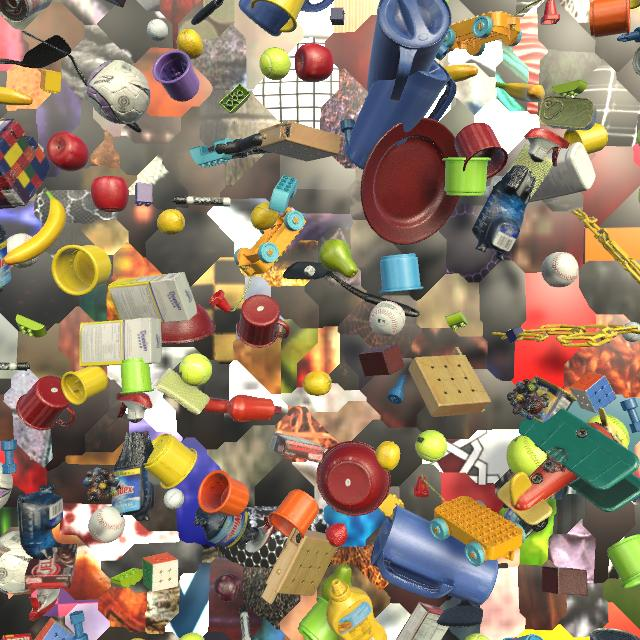ycb_002_master_chef_can: (590, 628, 640, 640)
ycb_003_cracker_box: (1, 633, 32, 640)
ycb_004_sugar_box: (108, 272, 197, 322), (79, 317, 162, 367)
ycb_005_tomato_soup_can: (0, 0, 52, 23), (633, 47, 640, 75)
ycb_006_mustard_bottle: (326, 579, 387, 640)
ycb_007_tuna_fish_can: (503, 507, 533, 539)
ycb_008_pudding_box: (24, 544, 78, 590), (396, 602, 449, 640), (269, 432, 325, 463), (0, 542, 11, 558), (365, 98, 366, 100)
ycb_010_potted_meat_can: (533, 375, 577, 423), (538, 96, 597, 130)
ycb_011_banana: (3, 191, 66, 265), (495, 82, 545, 103), (0, 87, 33, 106), (443, 65, 478, 82)
ycb_012_strawberry: (326, 523, 348, 547)
ycb_013_apple: (46, 131, 89, 172), (295, 43, 334, 83), (91, 176, 129, 212)
ycb_014_lemon: (250, 202, 278, 230), (177, 29, 203, 59), (302, 371, 332, 396), (375, 441, 400, 471), (157, 209, 185, 235), (131, 638, 144, 640)
ycb_016_pear: (319, 239, 358, 278), (321, 564, 352, 602)
ycb_018_plum: (214, 573, 241, 602)
